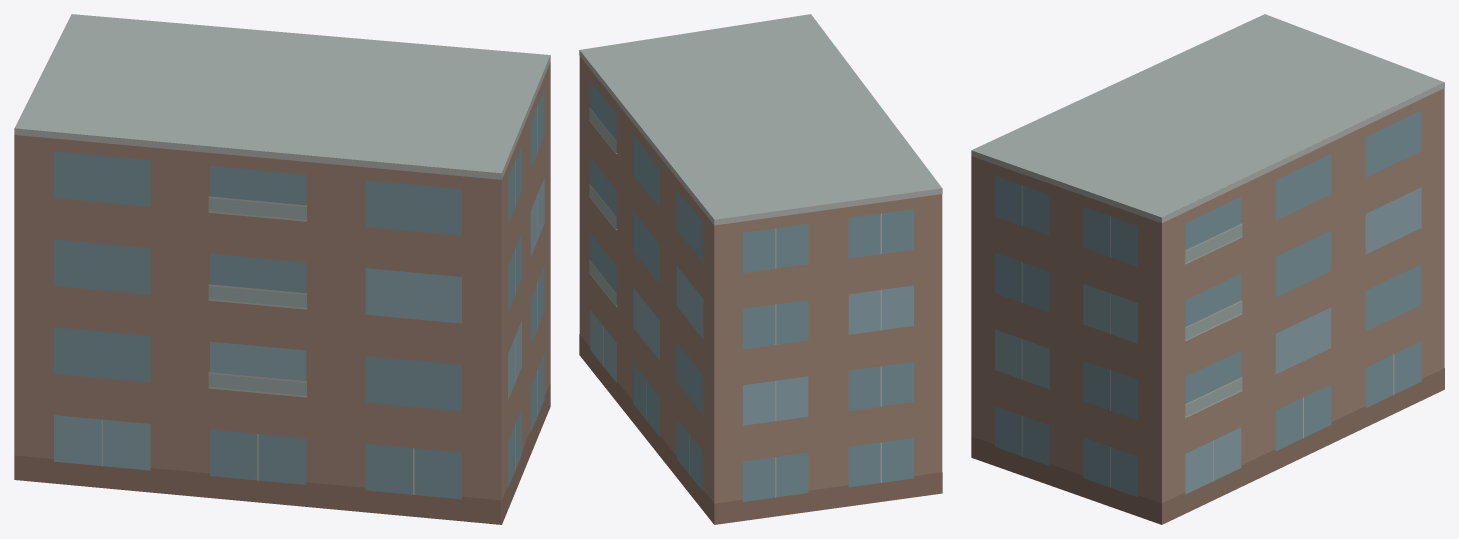
The model's file is survey-upis-32676551.glb.
The picture shows the model from 3 angles, left to right: view 1: azimuth 30°, elevation 25°; view 2: azimuth 150°, elevation 25°; view 3: azimuth 270°, elevation 25°; orthographic projection. The views are drawn at different scales.
Parts seen in each view (by area): view 1: survey-upis-32676551.tmp; view 2: survey-upis-32676551.tmp; view 3: survey-upis-32676551.tmp.
Part boxes in pixels (x1,y1,x2,y2): survey-upis-32676551.tmp: (14, 14, 550, 524); survey-upis-32676551.tmp: (579, 14, 942, 524); survey-upis-32676551.tmp: (971, 14, 1444, 524).
Bounding box in the file's own units: 18.62 × 13.1 × 18.3.
